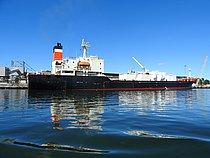Ship: (19, 35, 197, 100)
